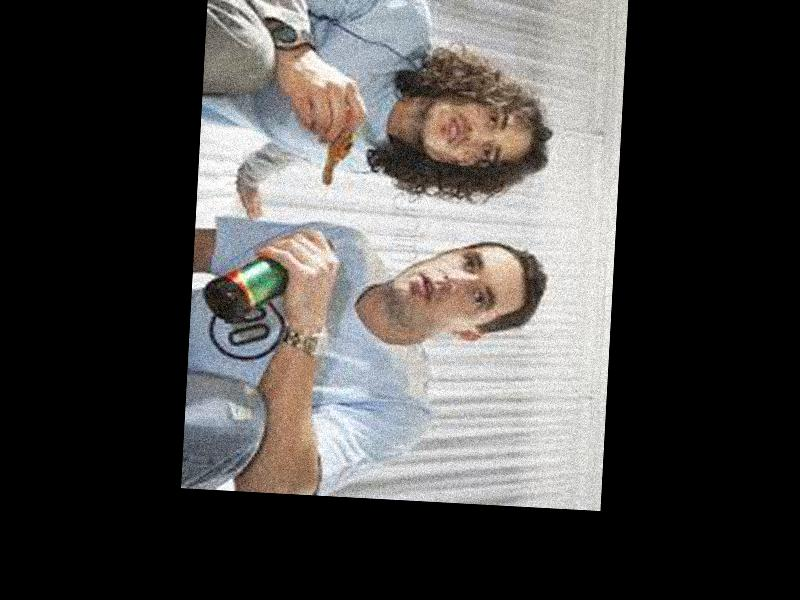Beer: (201, 232, 334, 329)
